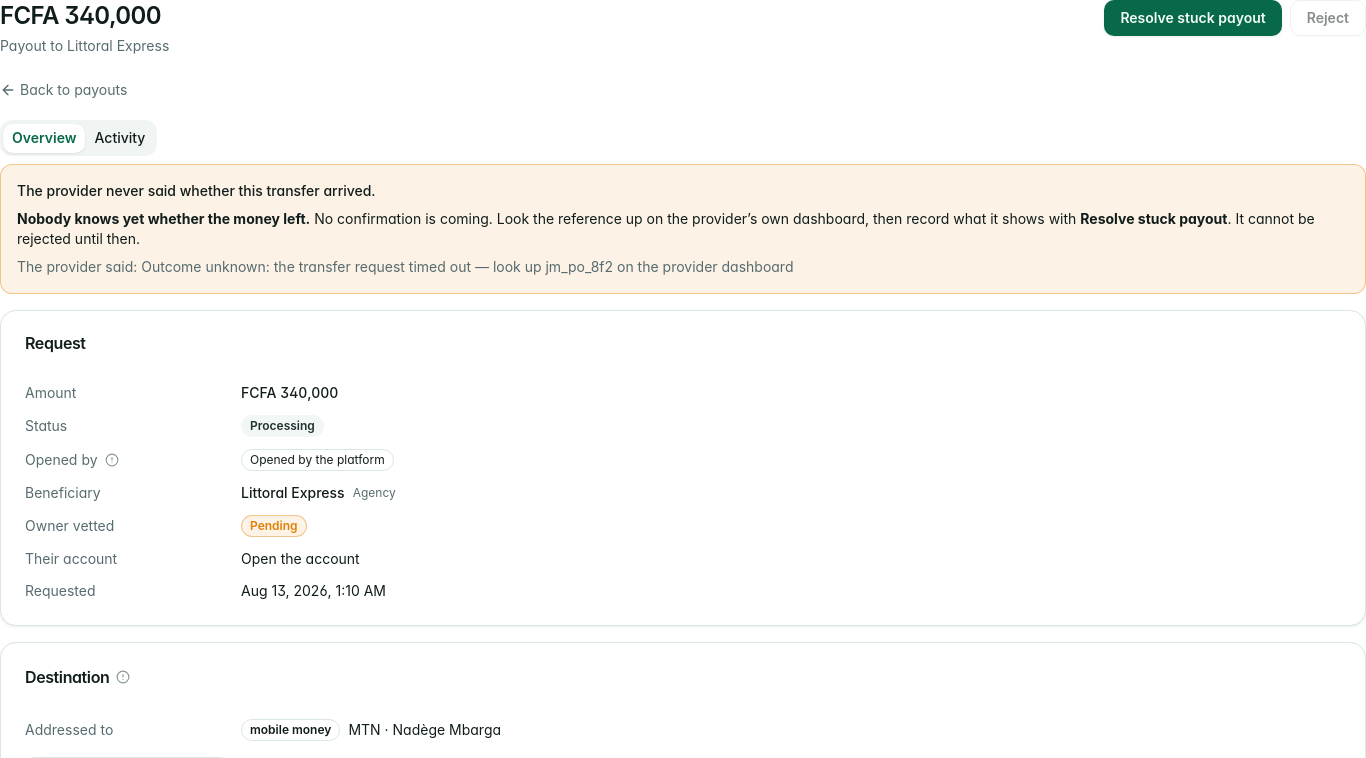
it: refusals › places a server field error on its field
Click the button "Resolve stuck payout" at (1193, 18), box [1104, 0, 1282, 36]
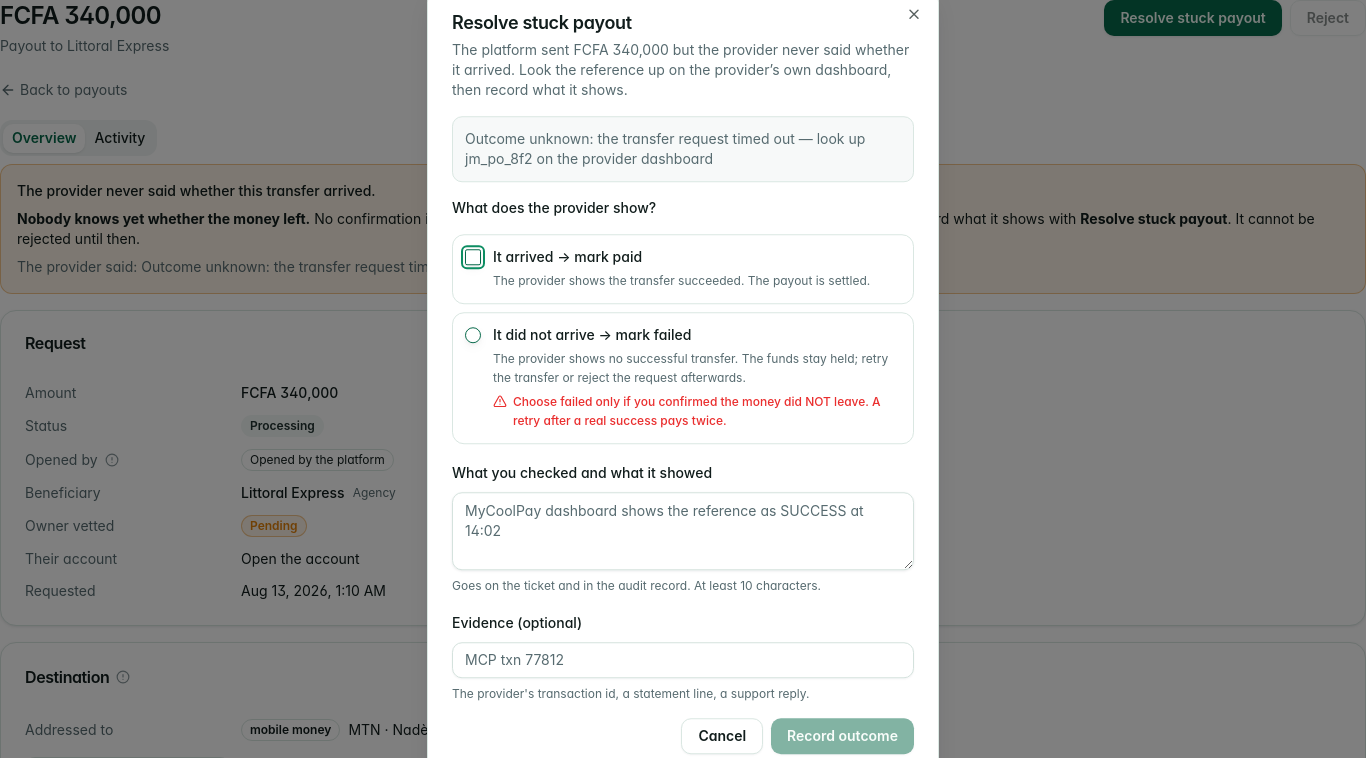
Click the radio button named "it arrived" next to "It arrived → mark paid" at (473, 257), box [465, 249, 481, 265]
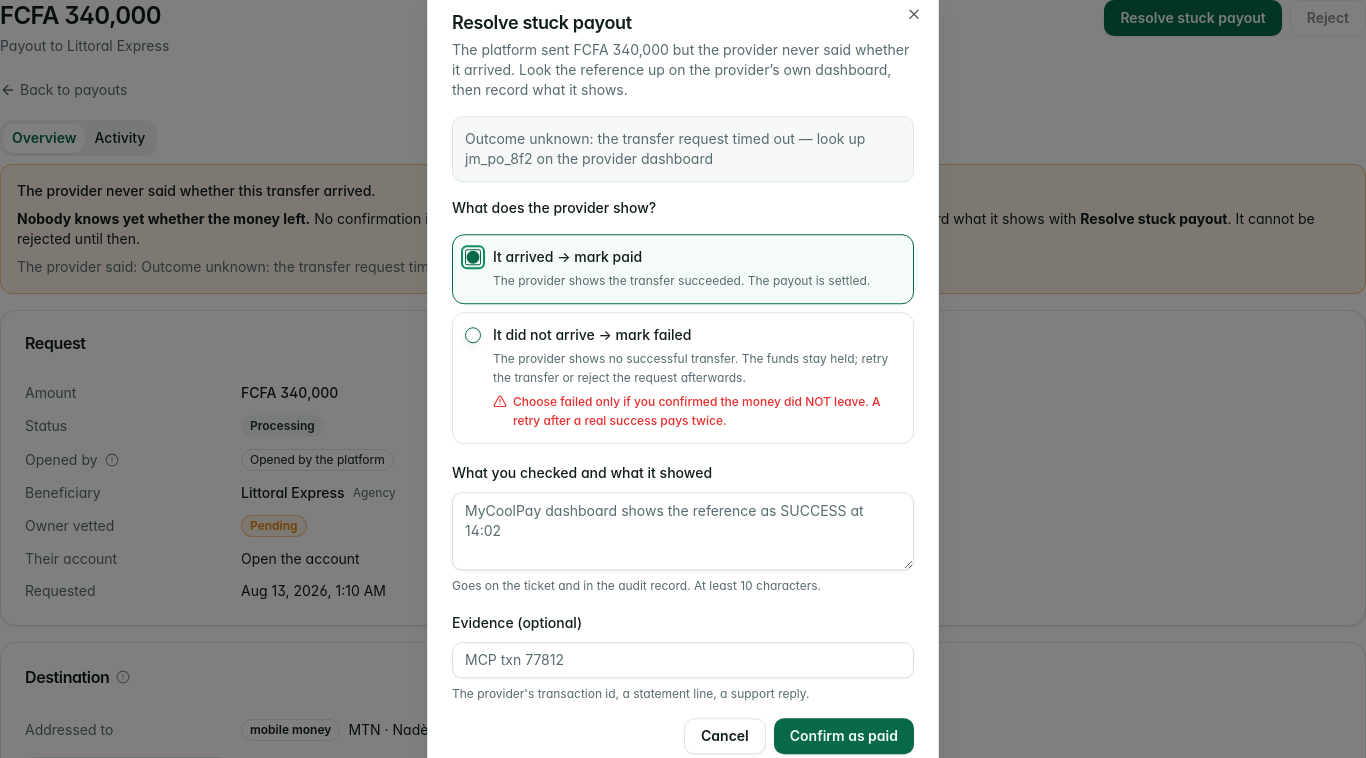
Type "MyCoolPay dashboard shows jm_po_8f2 SUCCESS at 14:02" into the text box labelled "What you checked and what it showed" at (683, 531), box [452, 492, 914, 570]
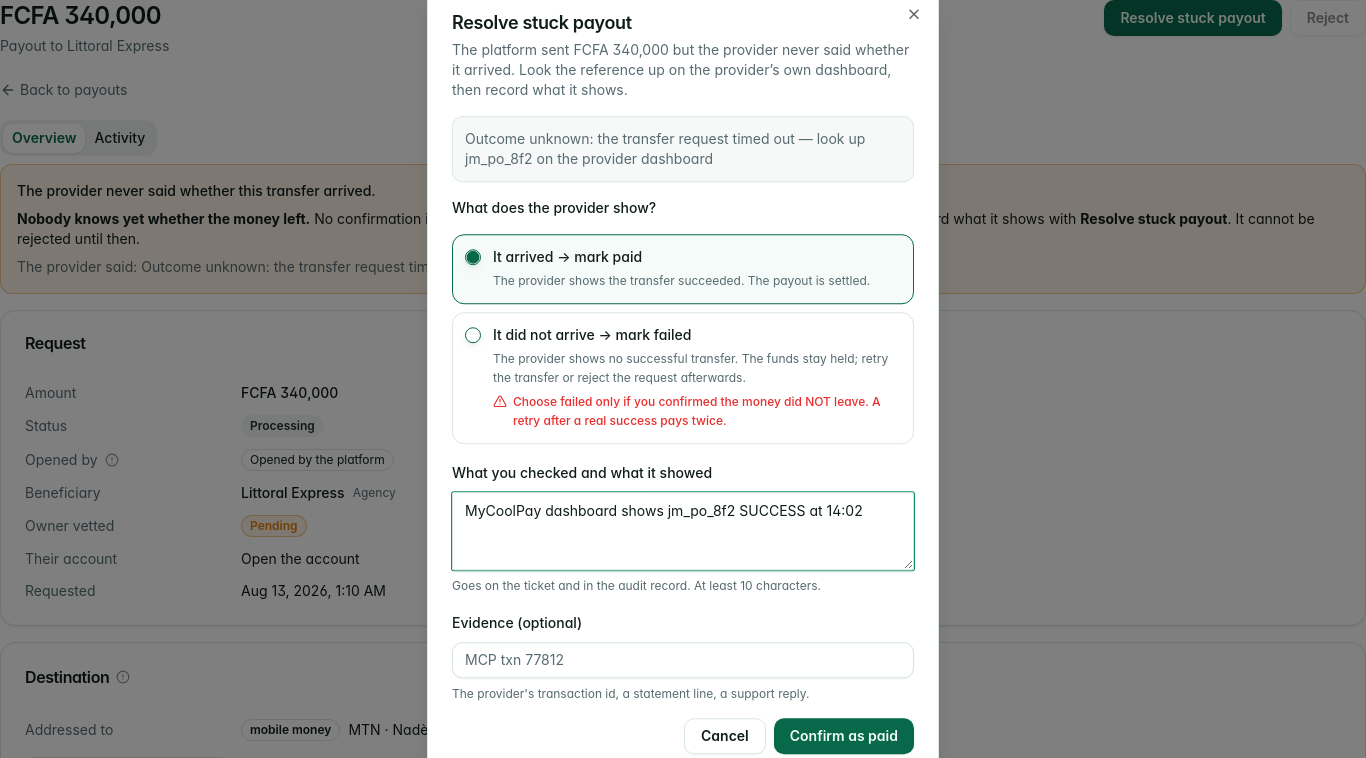
Type "x" into the field labelled "Evidence (optional)" at (683, 660), box [452, 642, 914, 678]
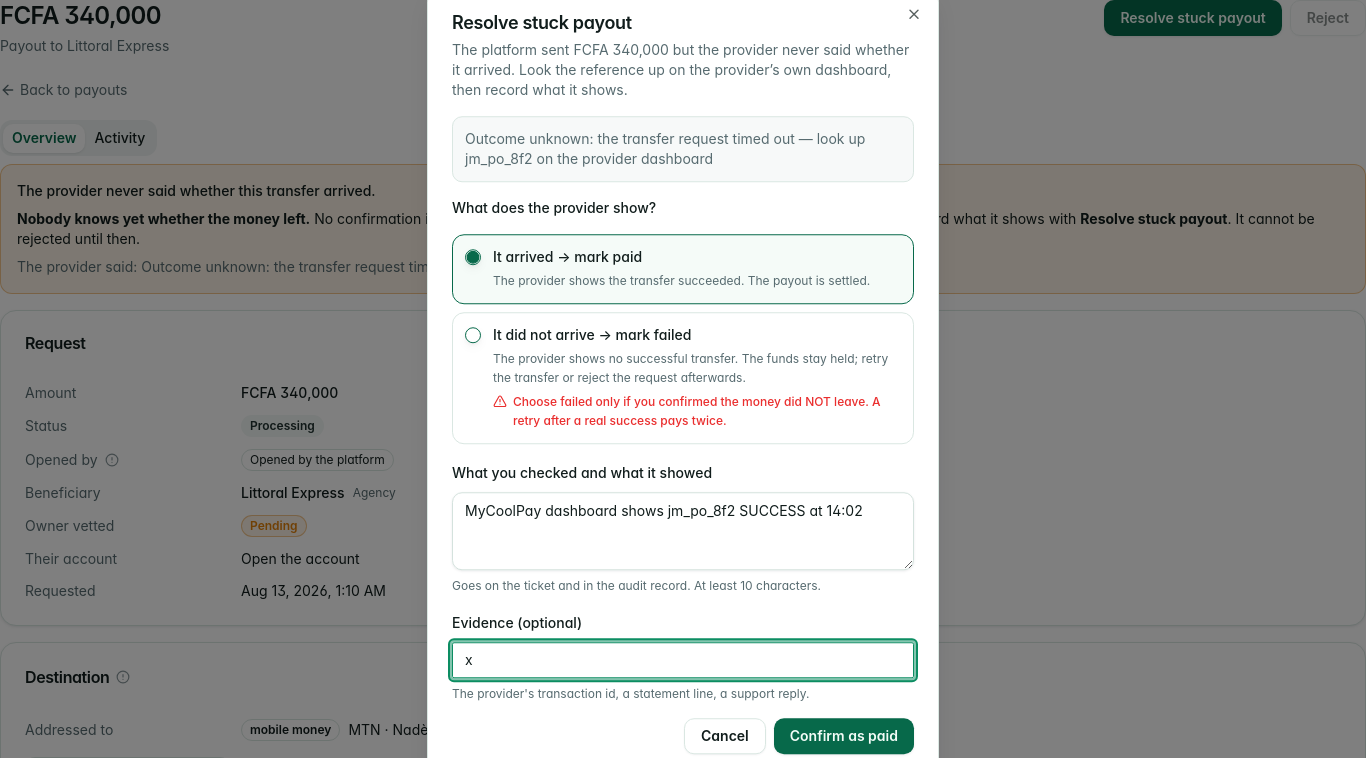
Click the button "Confirm as paid" at (844, 736), box [774, 718, 914, 754]
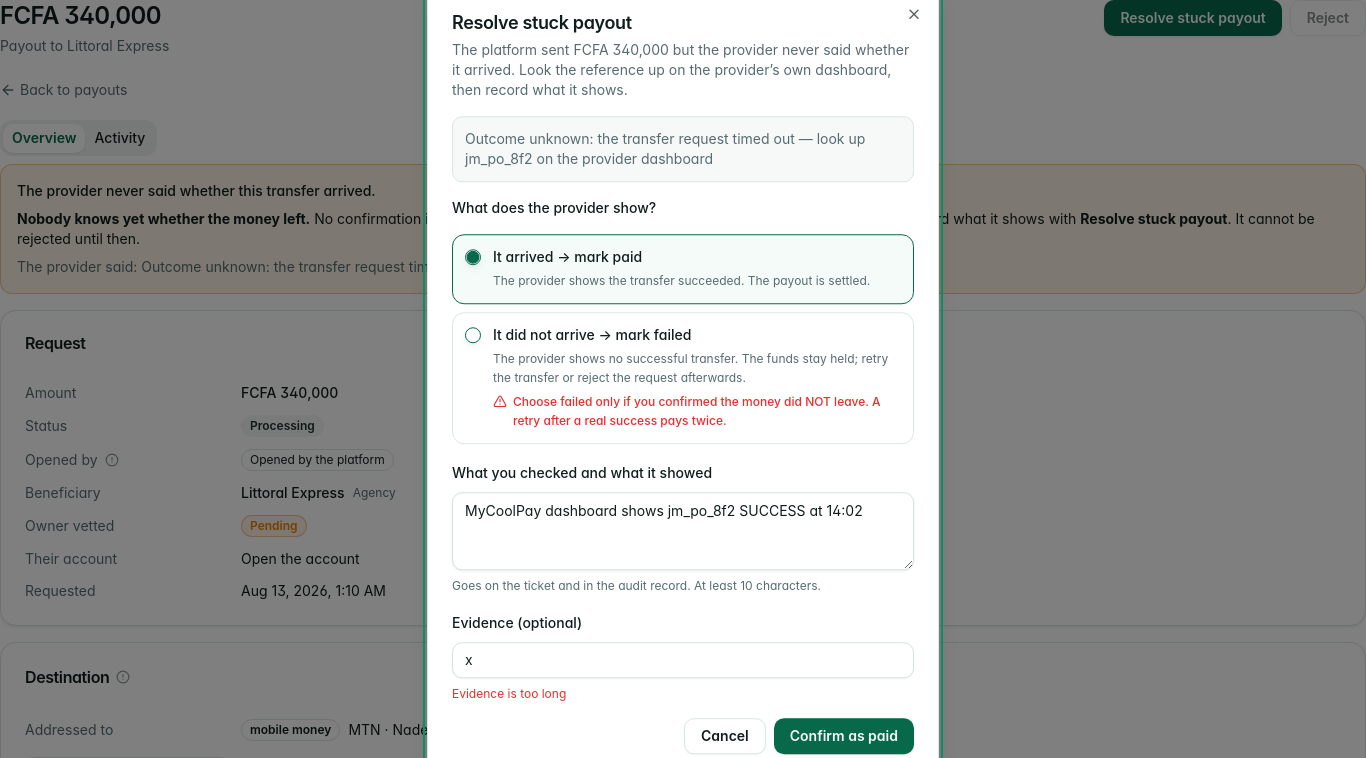
Check: the text "Evidence is too long" is shown, box [452, 686, 566, 701]
